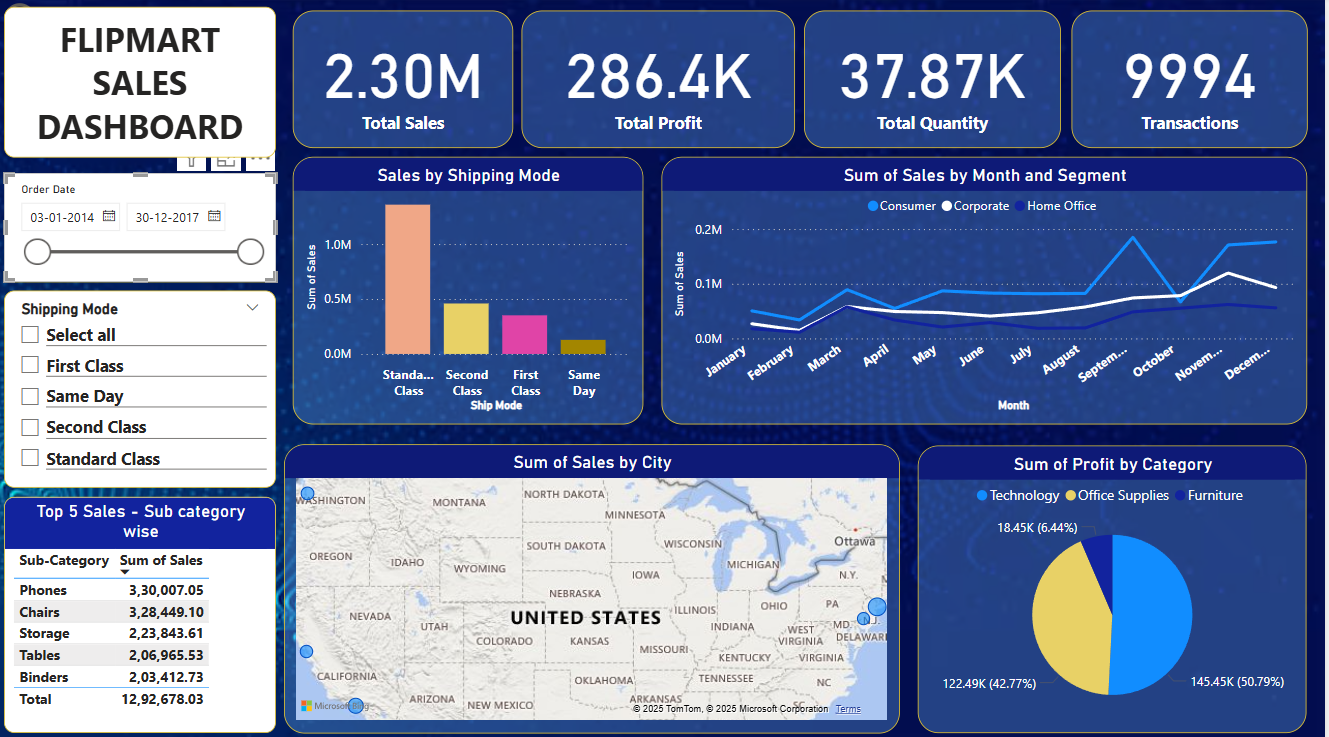

Layout of this report page (visuals, bound fields, positions):
{"tool":"powerbi","page":{"name":"Page 1","canvas":[1280,720],"ordinal":0},"visuals":[{"type":"card","fields":{"Values":["Sum(Orders.Sales)"]},"box":[283.7,11.6,212.8,132.6],"z":0},{"type":"card","fields":{"Values":["Sum(Orders.Profit)"]},"box":[504.7,11.6,264,132.6],"z":1000},{"type":"card","fields":{"Values":["CountNonNull(Orders.Order ID)"]},"box":[1034.9,11.6,227.9,132.6],"z":2000},{"type":"card","fields":{"Values":["Sum(Orders.Quantity)"]},"box":[776.7,11.6,247.7,132.6],"z":3000},{"type":"clusteredColumnChart","title":"Sales by Shipping Mode","fields":{"Category":["Orders.Ship Mode"],"Y":["Sum(Orders.Sales)"]},"box":[283.7,153.5,338.4,258.1],"z":4000},{"type":"pieChart","fields":{"Category":["Orders.Category"],"Y":["Sum(Orders.Profit)"]},"box":[887.2,431.4,375.6,277.9],"z":5000},{"type":"lineChart","fields":{"Y":["Sum(Orders.Sales)"],"Category":["Orders.Order Date.Variation.Date Hierarchy.Month"],"Series":["Orders.Segment"]},"box":[639.5,153.5,623.3,258.1],"z":6000},{"type":"map","fields":{"Size":["Sum(Orders.Sales)"],"Category":["Orders.City"]},"box":[275.6,430.2,594.2,279.1],"z":7000},{"type":"tableEx","title":"Top 5 Sales - Sub category wise","fields":{"Values":["Orders.Sub-Category","Sum(Orders.Sales)"]},"box":[4.7,481.4,262.8,227.9],"z":8000},{"type":"actionButton","box":[0,0,100,40],"z":9000},{"type":"slicer","fields":{"Values":["Orders.Ship Mode"]},"box":[4.7,282.6,262.8,190.7],"z":10000},{"type":"slicer","fields":{"Values":["Orders.Order Date"]},"box":[4.7,168.6,262.8,105.8],"z":11000},{"type":"textbox","box":[4.7,8.1,262.8,145.3],"z":12000}]}

Visuals, with their boxes in screenshot pixels (x1, y1, x2, y2), scaled from the page's 1280x720 canvas onto the 1329x737 screenshot:
card - Sum(Orders.Sales): (x1=295, y1=12, x2=516, y2=148)
card - Sum(Orders.Profit): (x1=524, y1=12, x2=798, y2=148)
card - CountNonNull(Orders.Order ID): (x1=1075, y1=12, x2=1311, y2=148)
card - Sum(Orders.Quantity): (x1=806, y1=12, x2=1064, y2=148)
"Sales by Shipping Mode" clusteredColumnChart: (x1=295, y1=157, x2=646, y2=421)
pieChart - Orders.Category x Sum(Orders.Profit): (x1=921, y1=442, x2=1311, y2=726)
lineChart - Sum(Orders.Sales) x Orders.Order Date.Variation.Date Hierarchy.Month: (x1=664, y1=157, x2=1311, y2=421)
map - Sum(Orders.Sales) x Orders.City: (x1=286, y1=440, x2=903, y2=726)
"Top 5 Sales - Sub category wise" tableEx: (x1=5, y1=493, x2=278, y2=726)
actionButton: (x1=0, y1=0, x2=104, y2=41)
slicer - Orders.Ship Mode: (x1=5, y1=289, x2=278, y2=484)
slicer - Orders.Order Date: (x1=5, y1=173, x2=278, y2=281)
textbox: (x1=5, y1=8, x2=278, y2=157)
